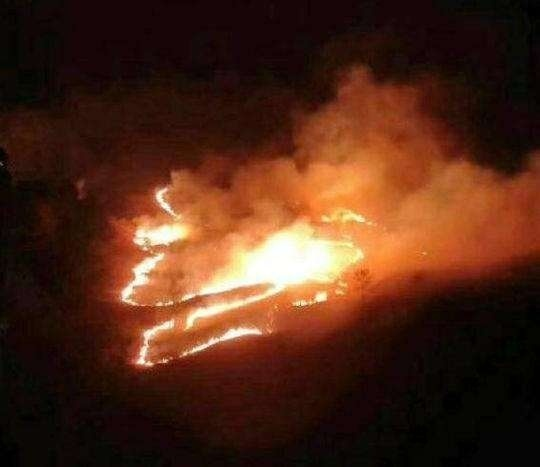fire: (116, 182, 375, 359)
